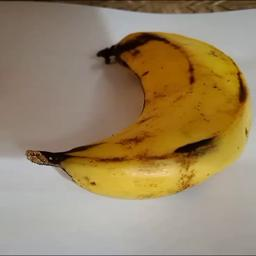Banana Semifresh: (22, 39, 253, 200)
